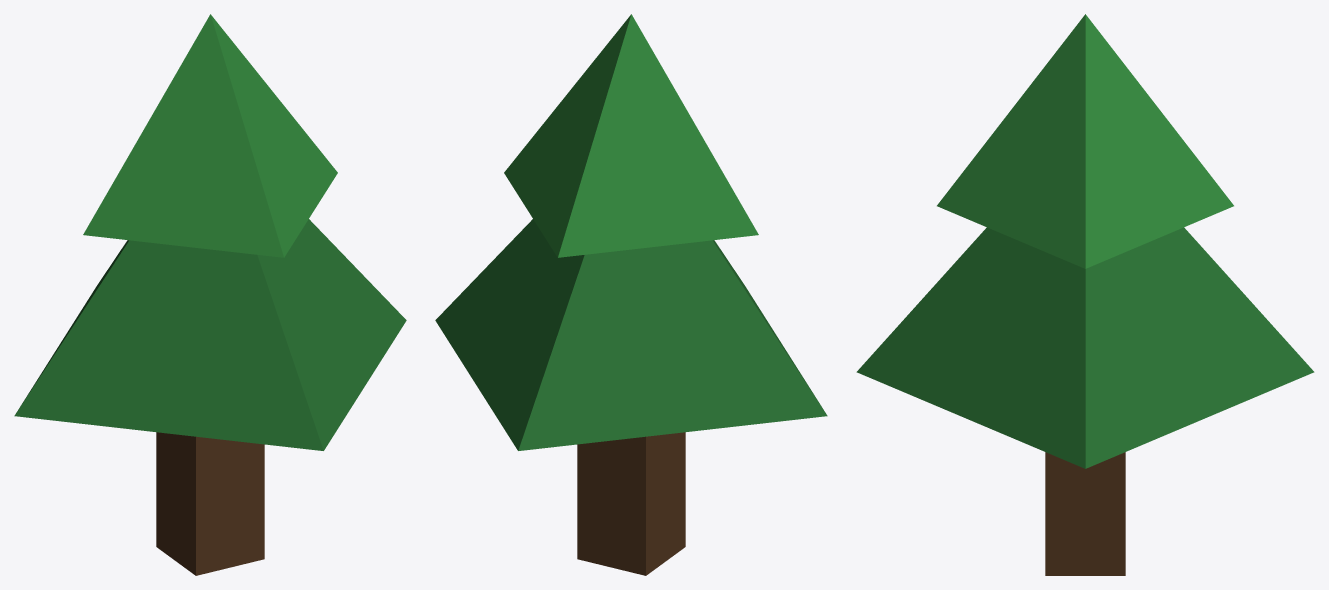
Rendered from tree.obj.
The picture shows the model from 3 angles, left to right: view 1: azimuth 30°, elevation 25°; view 2: azimuth 150°, elevation 25°; view 3: azimuth 270°, elevation 25°; orthographic projection.
Bounding box in the file's own units: 0.8 × 1.05 × 0.8.
